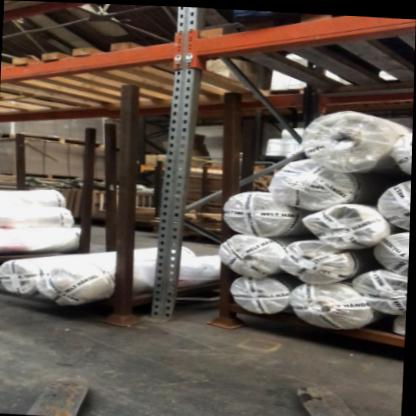vertical_damage: (137, 296, 187, 332)
